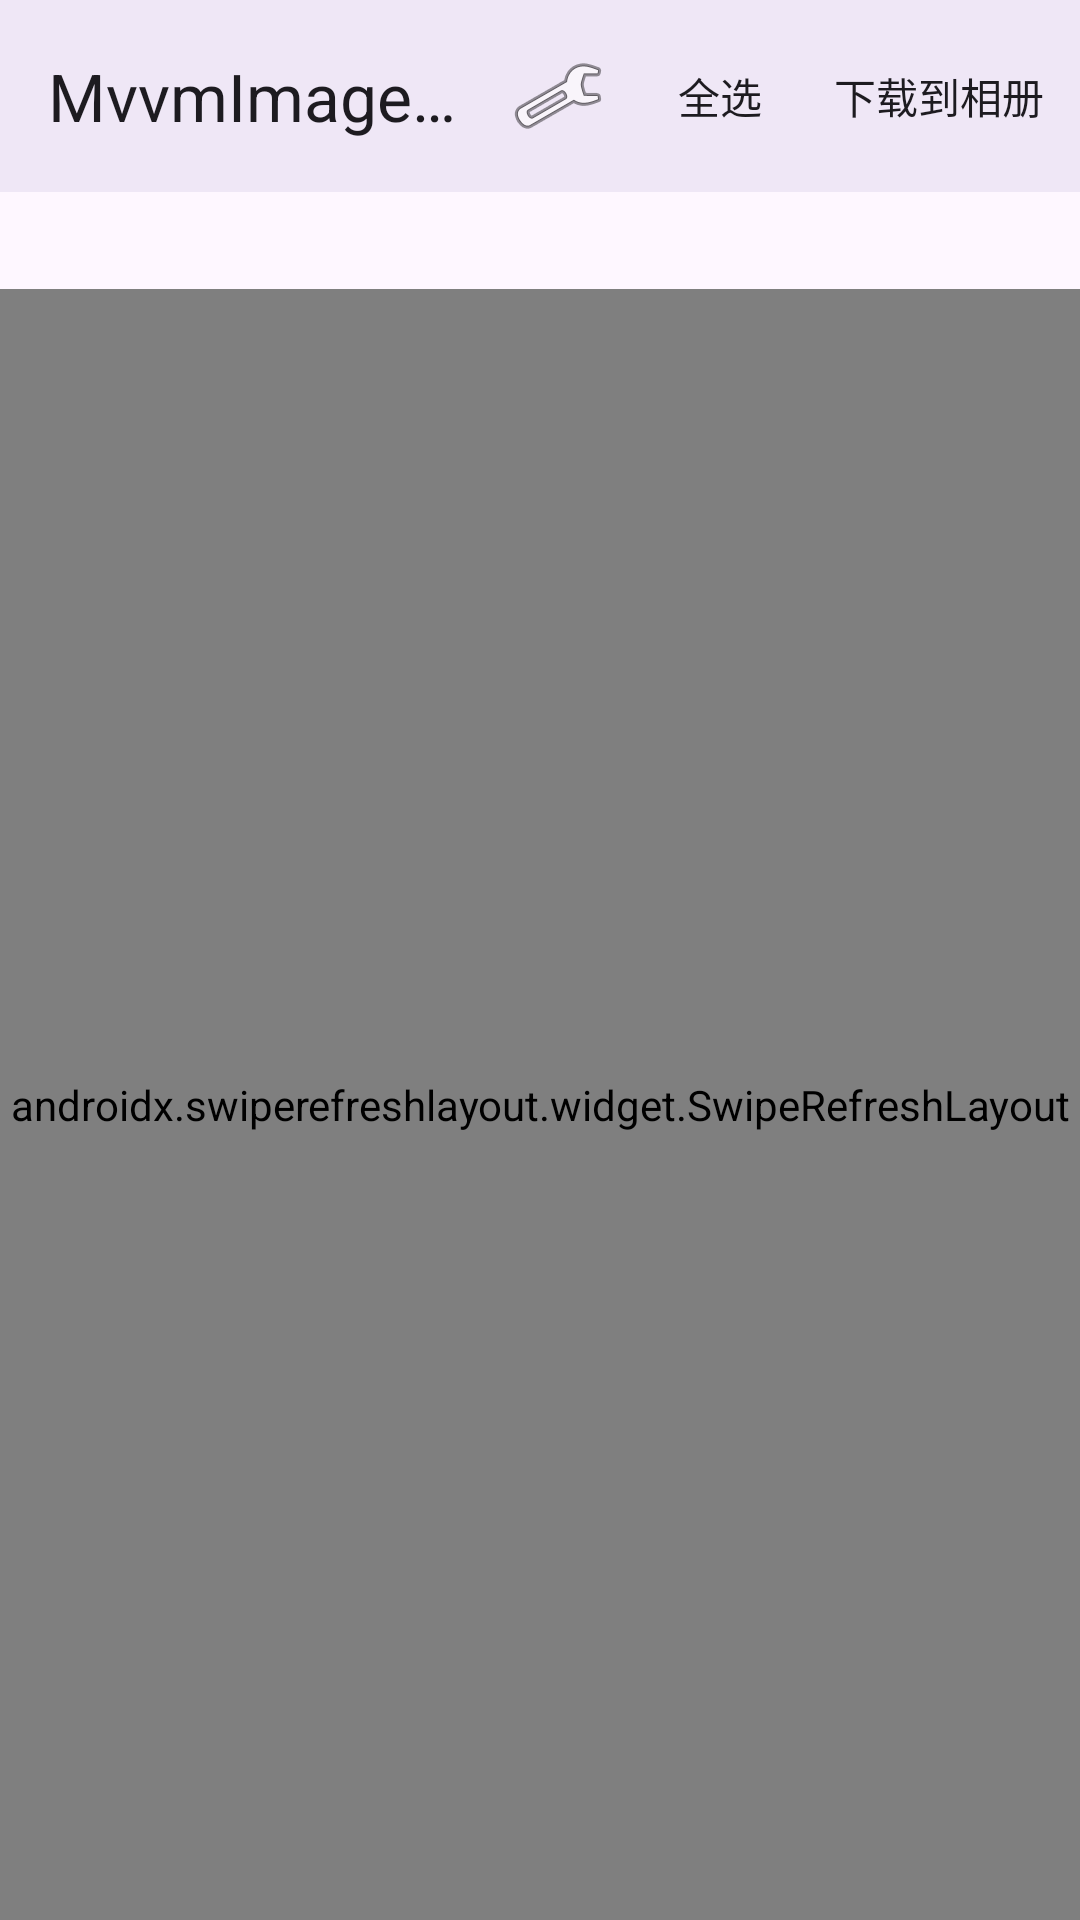

Icon click points for this 1080px×1920px phone screenshot, format point (x, y):
设置: point (558, 96)
